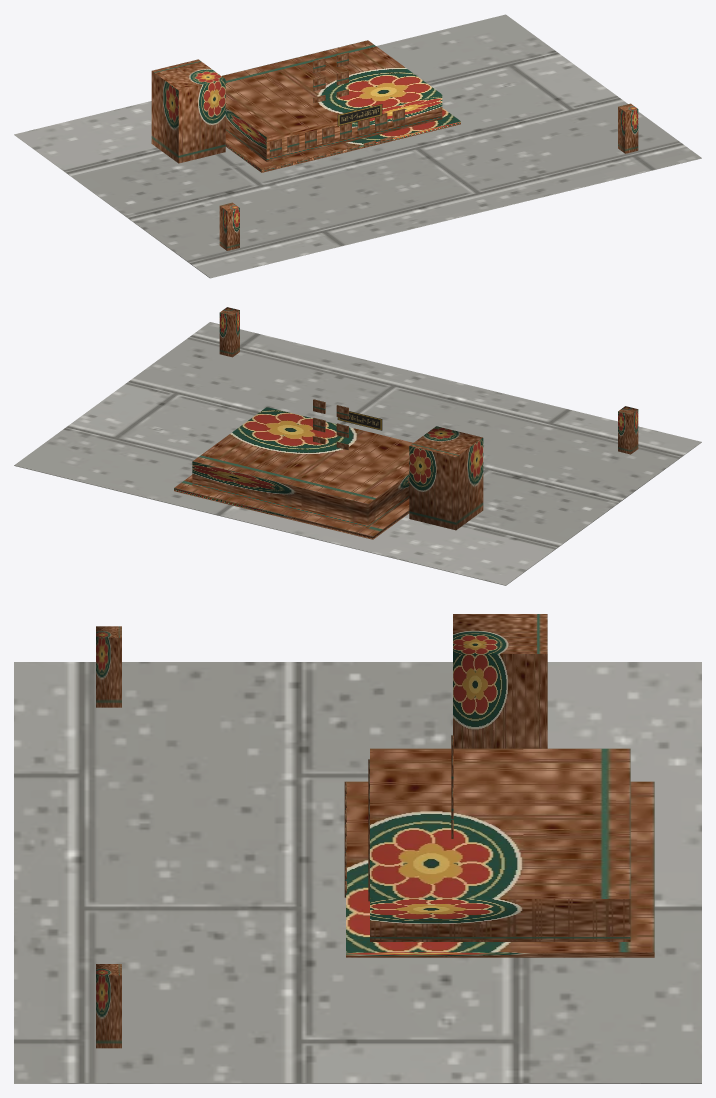
3 renders of one model, top to bottom at view 1: azimuth 30°, elevation 25°; view 2: azimuth 150°, elevation 25°; view 3: azimuth 270°, elevation 25°, orthographic. The views are drawn at different scales.
Parts seen in each view (by area): view 1: 11140_02_04515_044_01_L2__base, 11140_02_04515_044_02_L2__body, 11140_02_04515_044_05_L2__openings, 11140_02_04515_044_06_L2__green, 11140_02_04515_044_04_L2__sign; view 2: 11140_02_04515_044_01_L2__base, 11140_02_04515_044_02_L2__body, 11140_02_04515_044_06_L2__green, 11140_02_04515_044_05_L2__openings, 11140_02_04515_044_04_L2__sign; view 3: 11140_02_04515_044_01_L2__base, 11140_02_04515_044_02_L2__body, 11140_02_04515_044_06_L2__green, 11140_02_04515_044_05_L2__openings.
Part boxes in pixels (<box>): 11140_02_04515_044_01_L2__base: <box>14,14,701,278</box>; 11140_02_04515_044_02_L2__body: <box>151,40,460,172</box>; 11140_02_04515_044_05_L2__openings: <box>264,52,404,171</box>; 11140_02_04515_044_06_L2__green: <box>219,103,638,250</box>; 11140_02_04515_044_04_L2__sign: <box>337,104,382,126</box>; 11140_02_04515_044_01_L2__base: <box>14,322,701,585</box>; 11140_02_04515_044_02_L2__body: <box>174,407,483,539</box>; 11140_02_04515_044_06_L2__green: <box>219,307,638,454</box>; 11140_02_04515_044_05_L2__openings: <box>313,399,348,449</box>; 11140_02_04515_044_04_L2__sign: <box>337,411,382,430</box>; 11140_02_04515_044_01_L2__base: <box>14,662,701,1083</box>; 11140_02_04515_044_02_L2__body: <box>346,614,654,957</box>; 11140_02_04515_044_06_L2__green: <box>96,626,121,1048</box>; 11140_02_04515_044_05_L2__openings: <box>344,735,453,901</box>.
Size of the model in its own units: 84 by 12 by 58.
4 materials, 4 textured.
